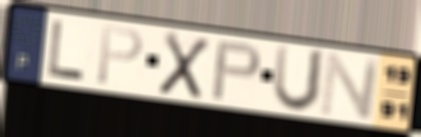L: (46, 18, 87, 82)
N: (317, 51, 383, 121)
P: (208, 39, 263, 103), (94, 23, 146, 87)
U: (270, 42, 329, 115)
X: (155, 28, 212, 102)
